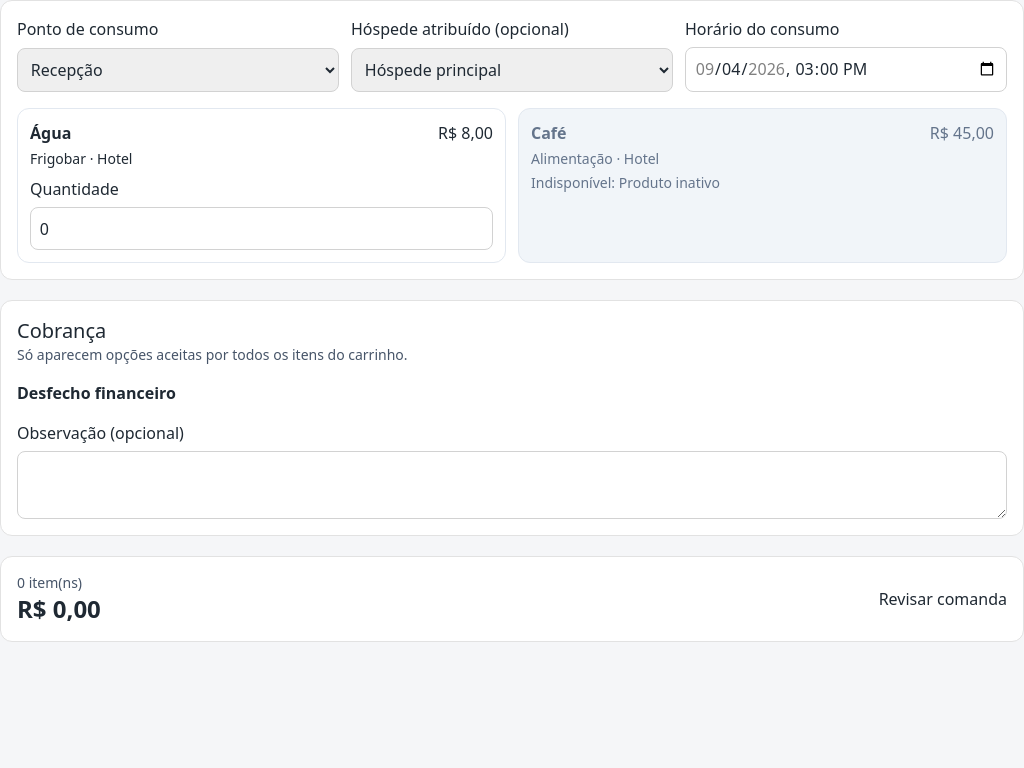
Scenario: ConsumptionOrderComposer › posts immediate payment after confirmation and renders the receipt
The image size is (1024, 768).
Replace the text in the number field named "Quantidade de Água" with "1" at {"x": 262, "y": 229}, box [30,207,493,250]
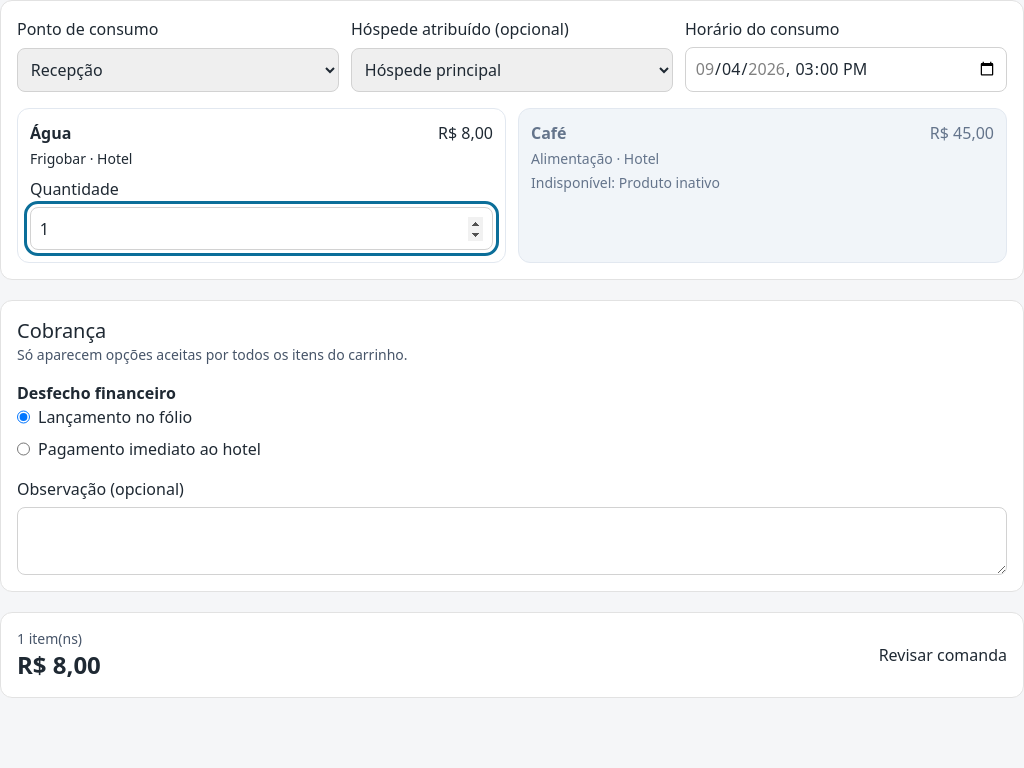
Click the radio button labelled "Pagamento imediato ao hotel" at {"x": 24, "y": 449}, box [17,437,30,461]
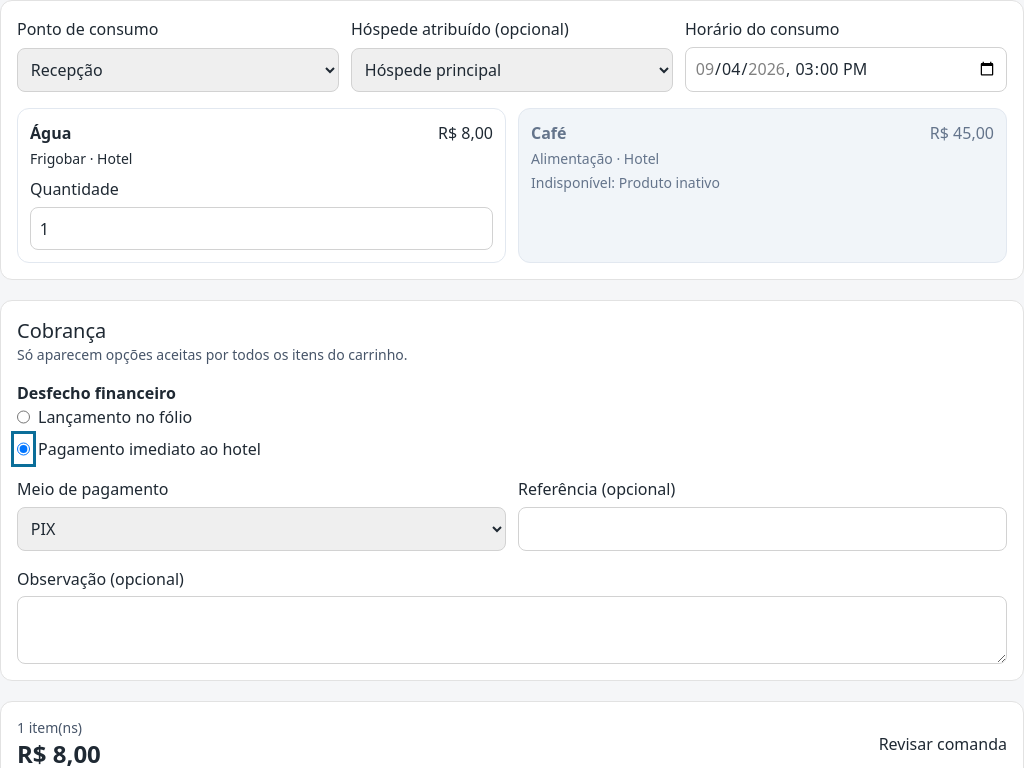
Select "PIX" in the dropdown labelled "Meio de pagamento" at {"x": 262, "y": 529}, box [17,507,506,551]
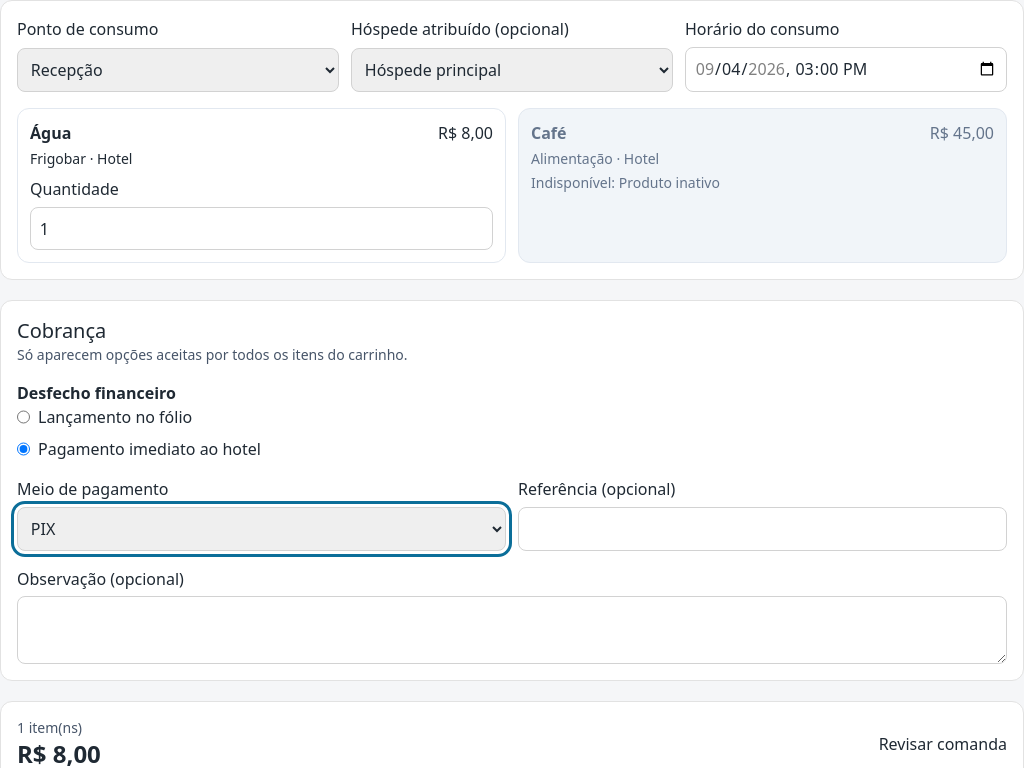
Click the button "Revisar comanda" at {"x": 943, "y": 744}, box [879,732,1007,756]
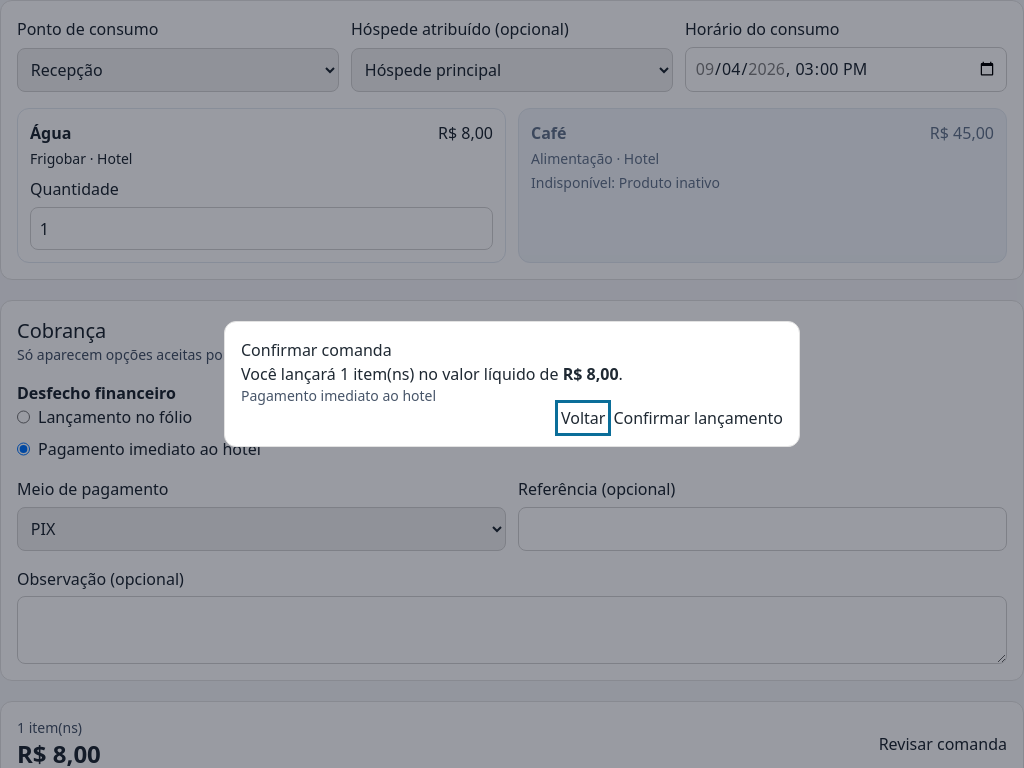
Click the button "Confirmar lançamento" at {"x": 698, "y": 418}, box [613,406,783,430]
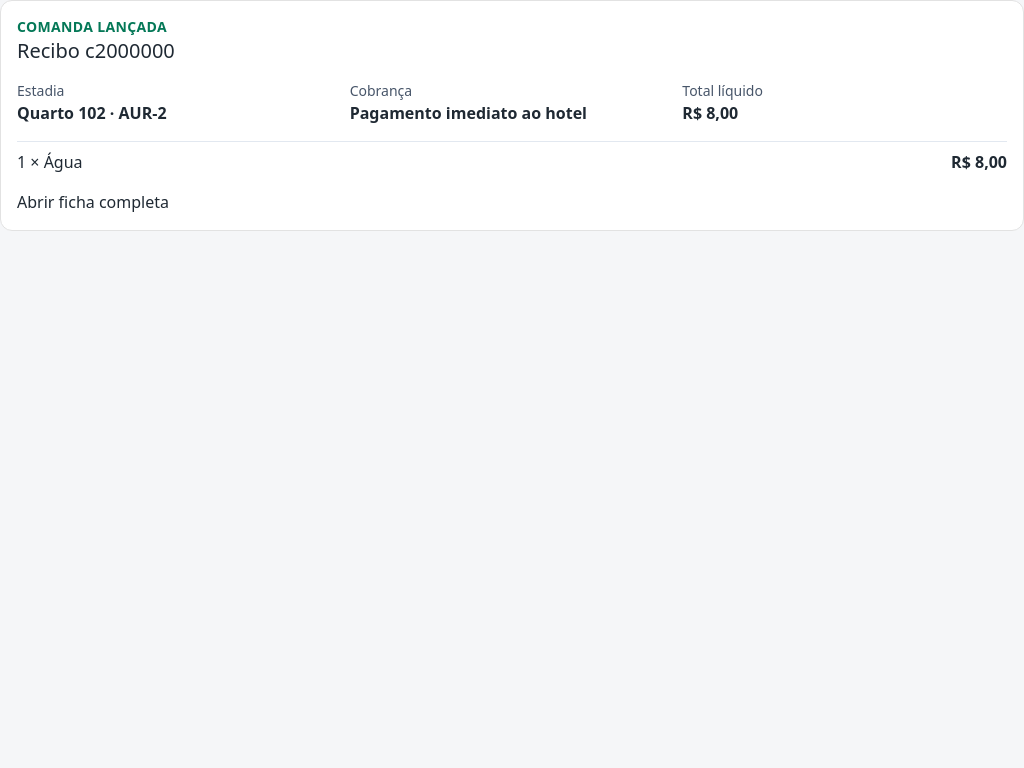
Now the heading "Recibo c2000000" is shown, box [17,37,175,64]
